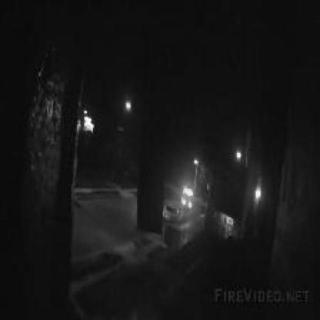other: (117, 96, 135, 117)
